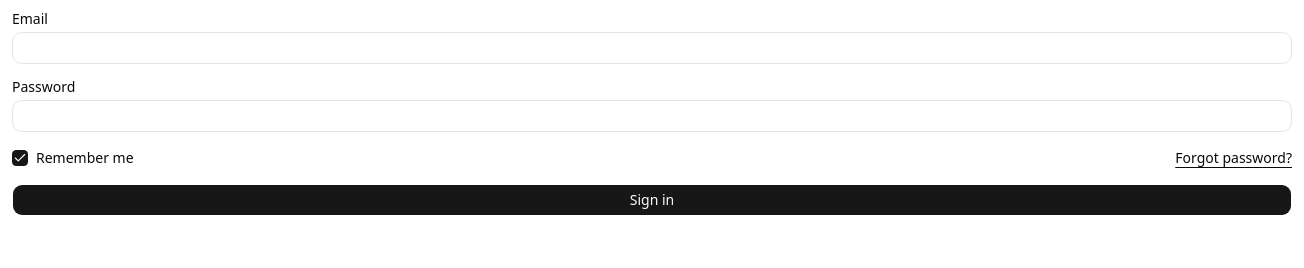
it: LoginForm › shows Strapi's error inline
The image size is (1304, 268).
Type "ada@example.com" into the field labelled "Email" at point(652, 48), box [12,32,1292,64]
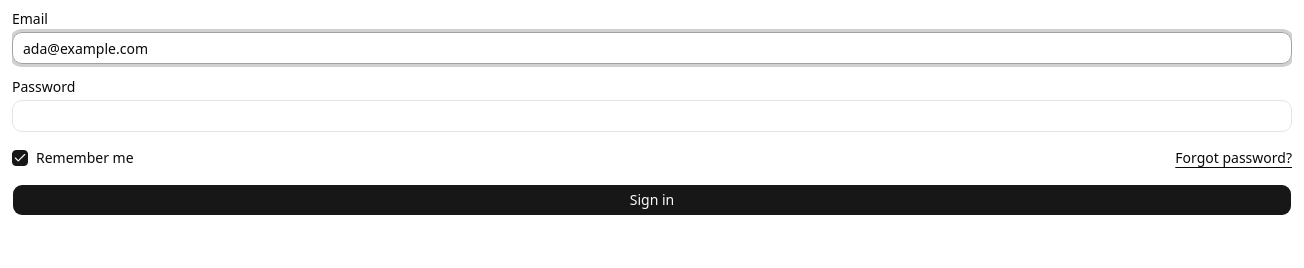
Type "wrong" into the password field labelled "Password" at point(652, 116), box [12,100,1292,132]
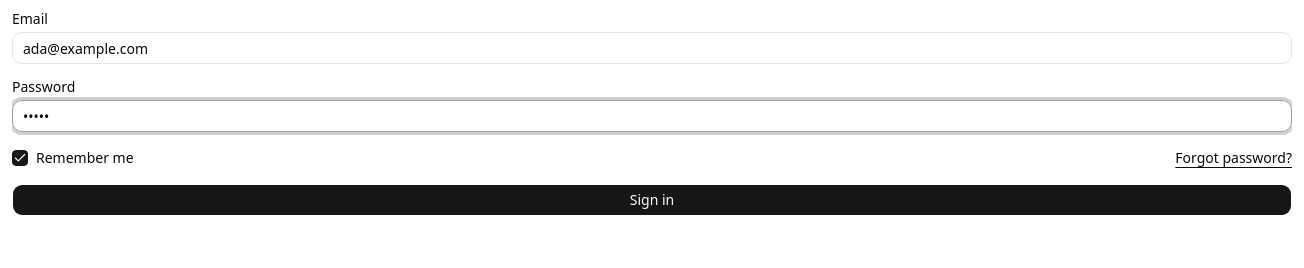
Click the button "Sign in" at point(652, 200), box [12,184,1292,216]
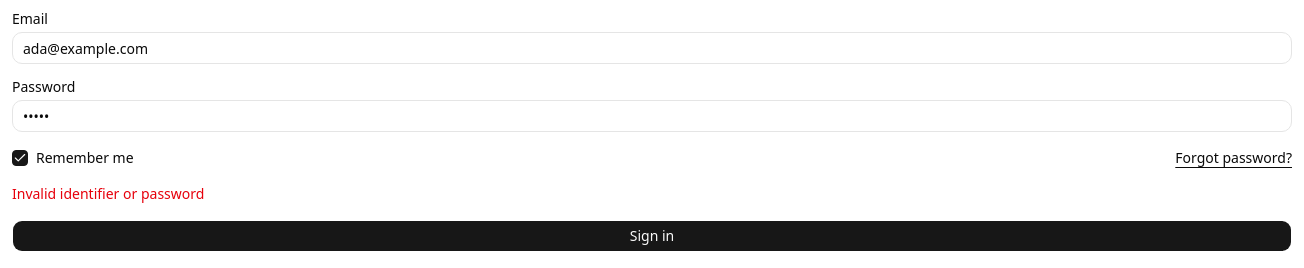
Expected: the message reads "Invalid identifier or password", [12,184,204,203]
